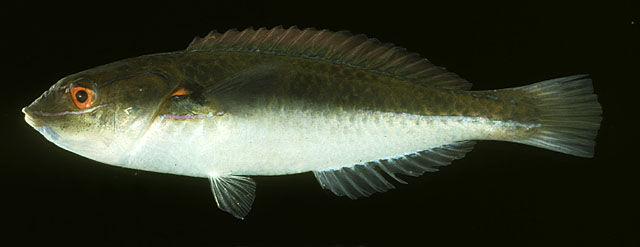fish: (20, 25, 604, 221)
